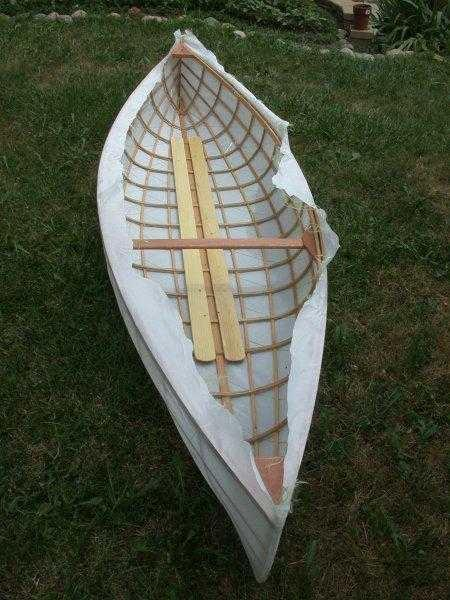kayak: (95, 31, 340, 585)
